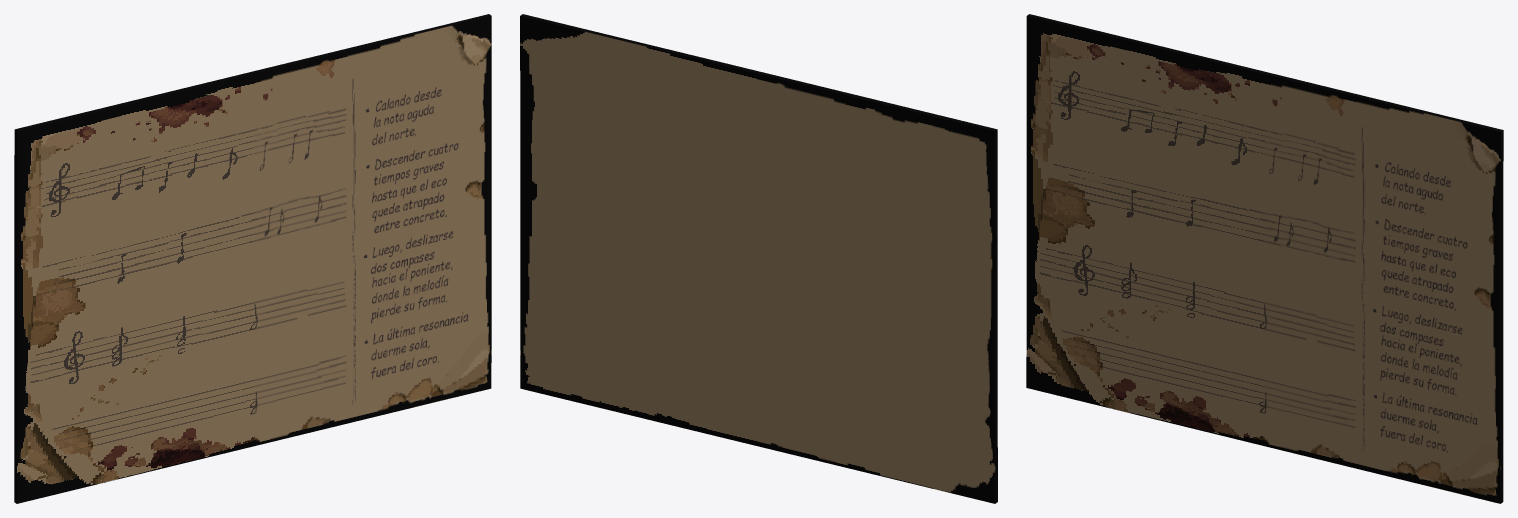
Rendered from Partitura.glb.
3 views of the same model, side by side, from view 1: azimuth 30°, elevation 25°; view 2: azimuth 150°, elevation 25°; view 3: azimuth 330°, elevation 25° (orthographic).
Parts seen in each view (by area): view 1: Partitura; view 2: Partitura; view 3: Partitura.
Boxes of the visible parts, x1,y1,x2,y2 form: Partitura: (14,14,491,503); Partitura: (520,14,997,503); Partitura: (1026,14,1503,503).
Size of the model in its own units: 0.4003 by 0.3004 by 0.00394.
2 materials, 2 textured.
